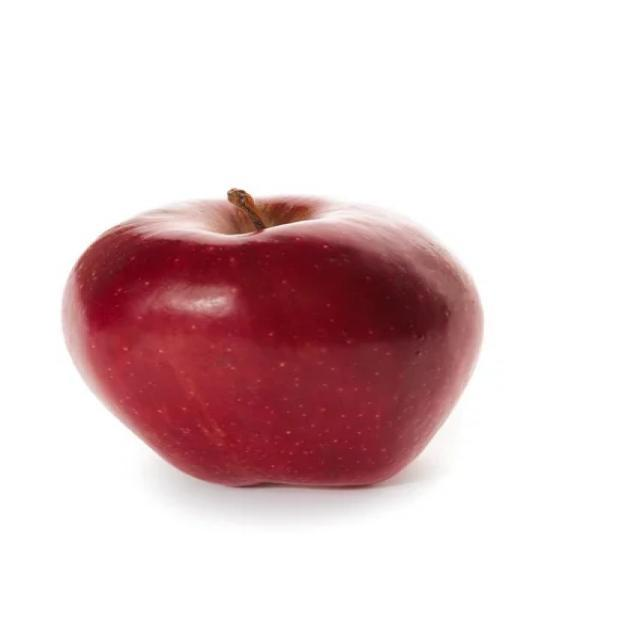Fresh Apple: (51, 175, 492, 510)
